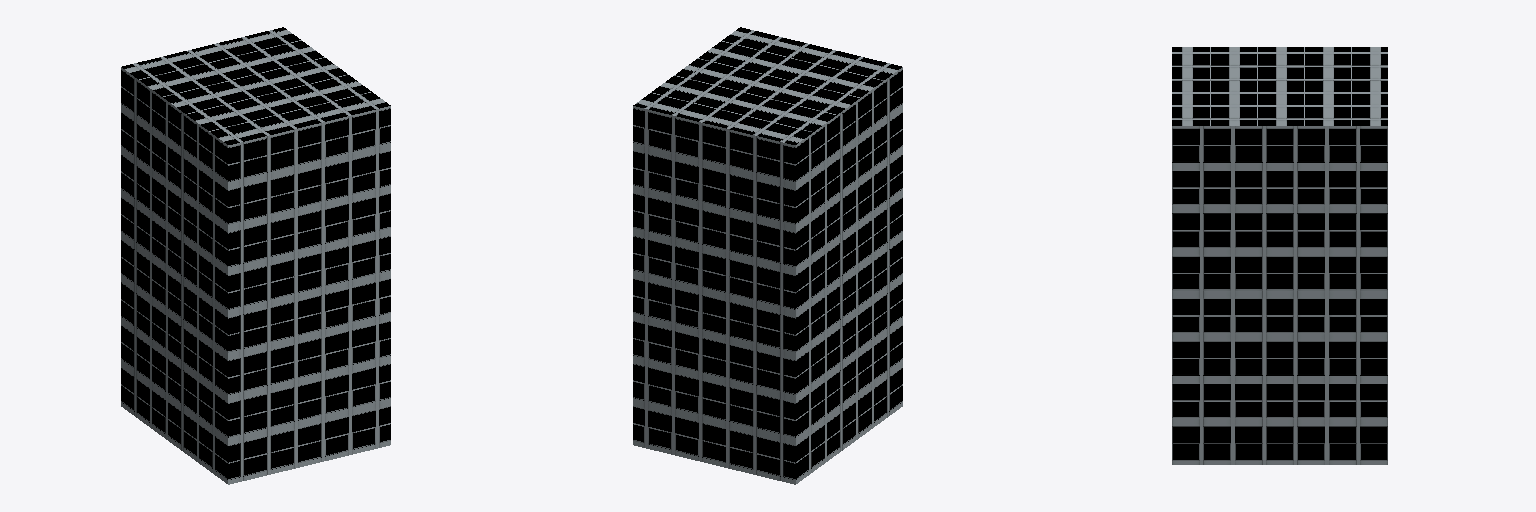
The picture shows the model from 3 angles: view 1: azimuth 30°, elevation 25°; view 2: azimuth 150°, elevation 25°; view 3: azimuth 270°, elevation 25°; orthographic projection.
Parts seen in each view (by area): view 1: Plane; view 2: Plane; view 3: Plane.
Boxes of the visible parts, box(x1,y1,x2,y2) form: Plane: box(121, 27, 390, 484); Plane: box(633, 27, 902, 484); Plane: box(1172, 47, 1387, 464).
Bounding box in the file's own units: 2 × 3.98 × 2.29.
Materials: 1 (1 with a texture image).